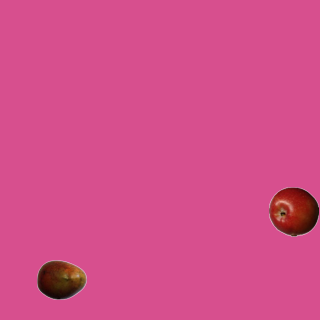Apple Braeburn: (268, 186, 318, 236)
Mango Red: (36, 254, 86, 304)
